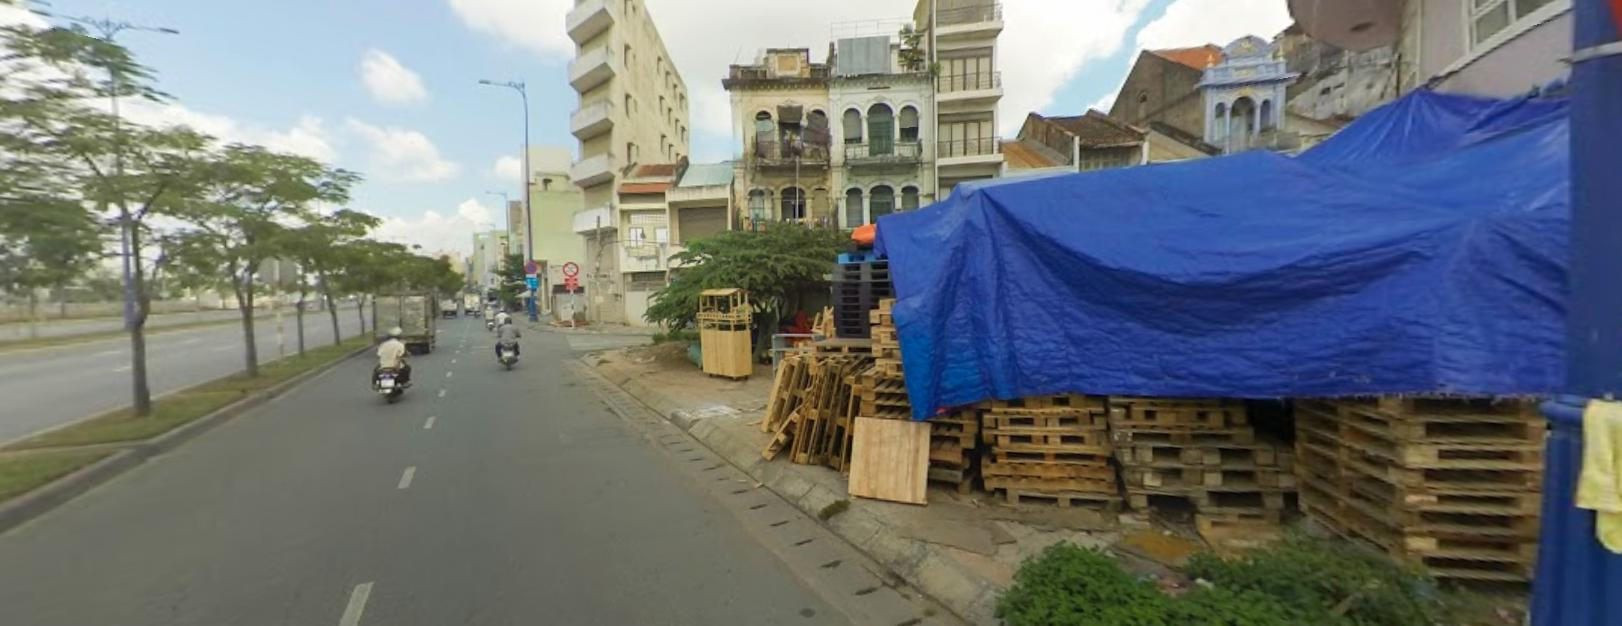Cam con lai: (562, 260, 578, 274)
Cam dung va do: (523, 258, 538, 271)
